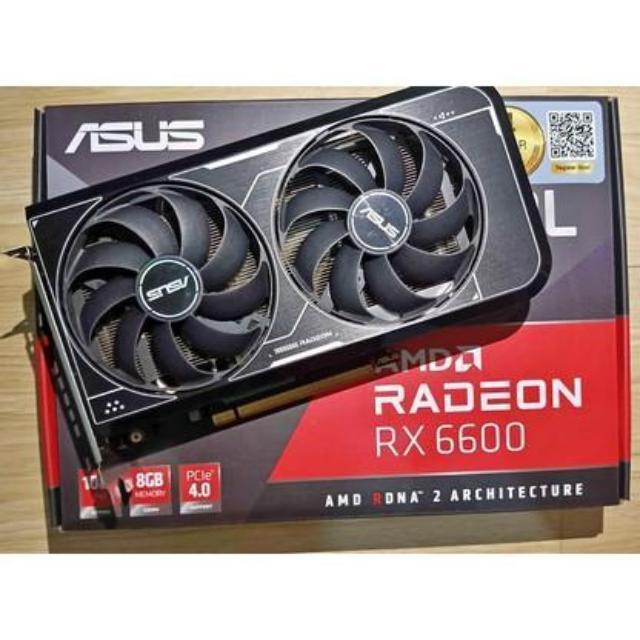GPU: (18, 75, 550, 450)
